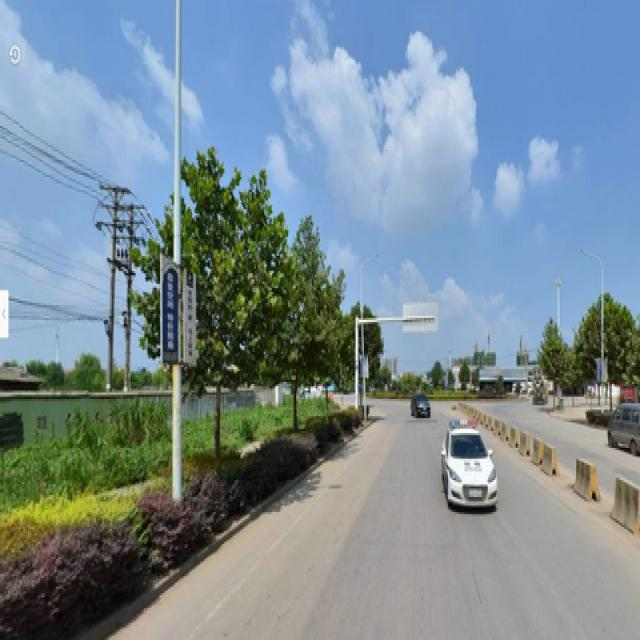meta: (189, 188, 243, 467), (266, 228, 318, 444)
